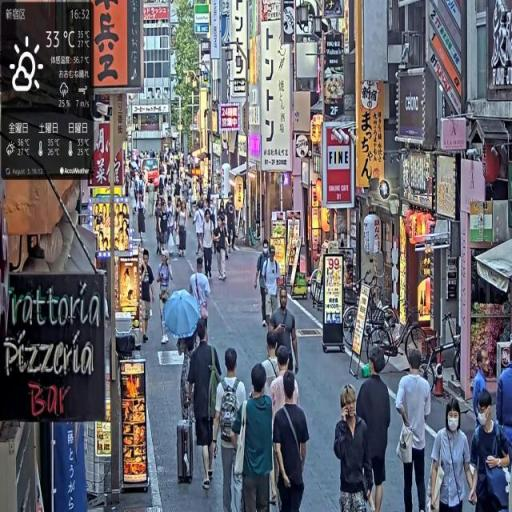person: (233, 362, 276, 512), (188, 316, 224, 495), (355, 349, 393, 512), (395, 351, 433, 512), (213, 346, 249, 512), (428, 397, 477, 512), (333, 382, 375, 512), (273, 370, 310, 512), (470, 389, 512, 512), (269, 289, 300, 376), (472, 353, 494, 432), (189, 256, 212, 331), (140, 250, 156, 345), (215, 215, 232, 284), (202, 211, 216, 284), (177, 201, 190, 260)
